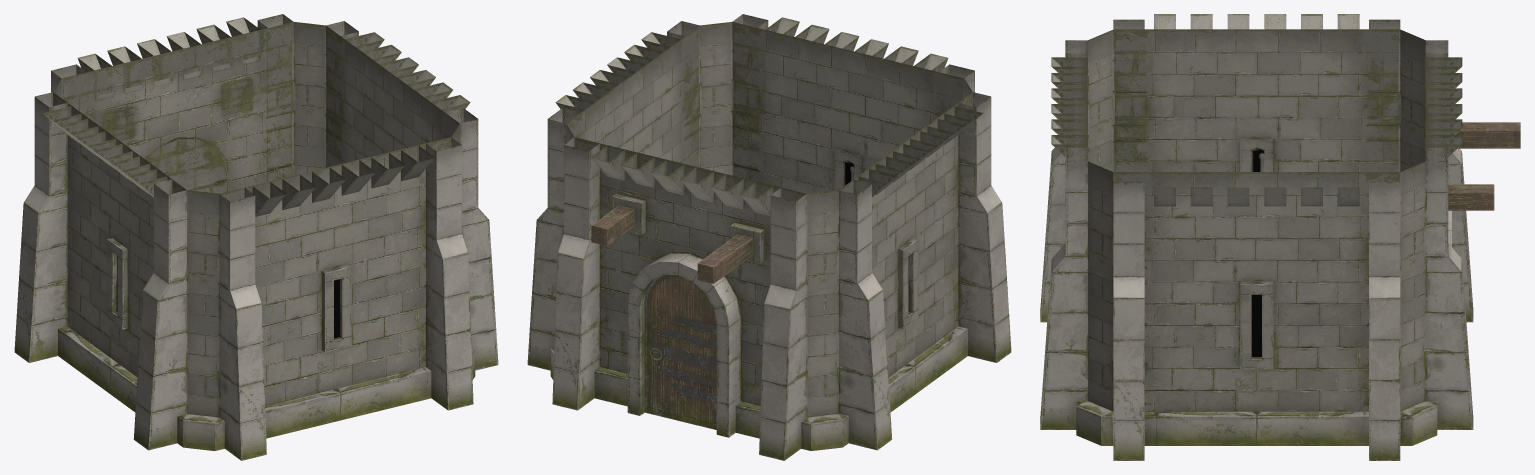
The model's file is FortBBody.fbx.
3 views of the same model, side by side, from view 1: azimuth 30°, elevation 25°; view 2: azimuth 150°, elevation 25°; view 3: azimuth 270°, elevation 25° (orthographic). The views are drawn at different scales.
Visible parts, largest first — view 1: FortBBody; view 2: FortBBody; view 3: FortBBody.
Part boxes in pixels (bbox=[...]): FortBBody: bbox=[14, 14, 498, 460]; FortBBody: bbox=[527, 14, 1011, 460]; FortBBody: bbox=[1040, 14, 1520, 460].
Bounding box in the file's own units: 589 × 404 × 654.
Materials: 1 (1 with a texture image).
